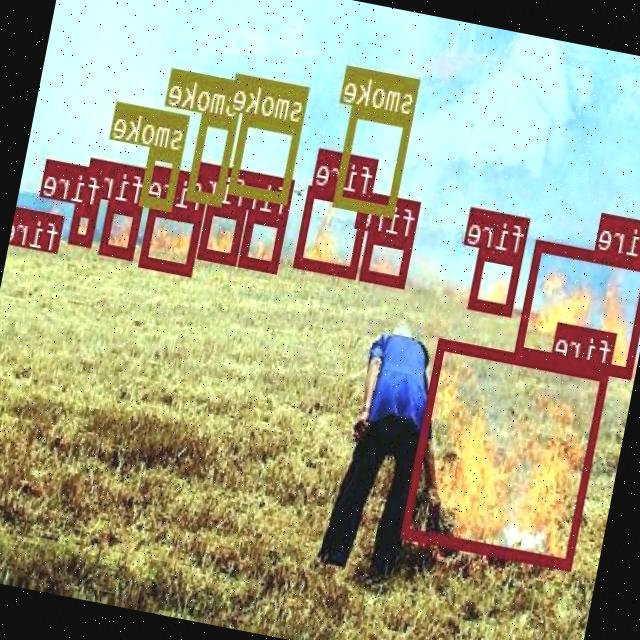fire: (402, 338, 611, 570), (516, 239, 640, 377), (295, 185, 373, 278), (141, 204, 205, 274), (470, 246, 524, 314), (199, 202, 249, 263), (241, 210, 289, 272), (362, 232, 414, 286), (101, 200, 144, 258), (70, 203, 100, 246), (48, 213, 66, 240)
smoke: (334, 106, 414, 216), (230, 114, 304, 203), (188, 114, 238, 205), (142, 146, 184, 208)
